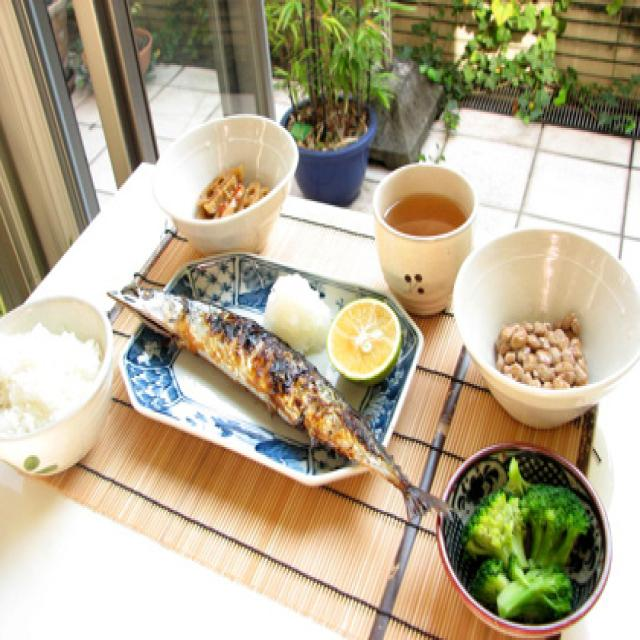熟制海鲜: (92, 274, 440, 544)
